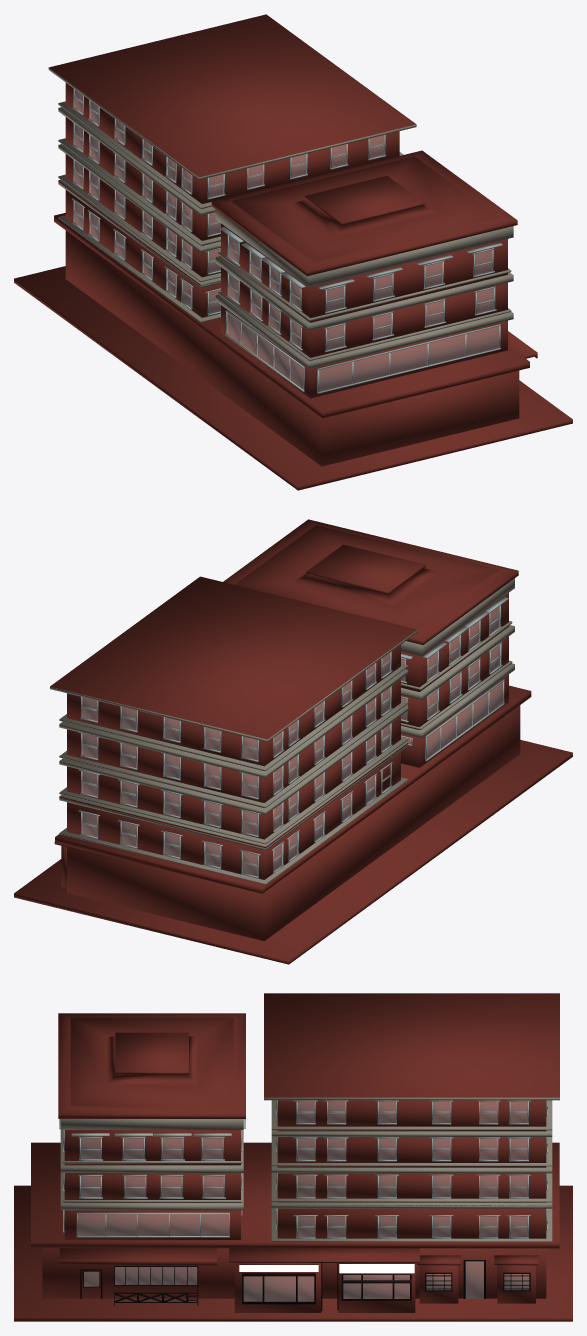
Rendered from apartment3.glb.
3 views of the same model, one above another, from view 1: azimuth 30°, elevation 25°; view 2: azimuth 150°, elevation 25°; view 3: azimuth 270°, elevation 25° (orthographic).
Visible parts, largest first — view 1: Small Apartment Building2; view 2: Small Apartment Building2; view 3: Small Apartment Building2.
Part boxes in pixels (<box>): Small Apartment Building2: <box>14,14,572,490</box>; Small Apartment Building2: <box>14,519,572,964</box>; Small Apartment Building2: <box>14,993,572,1321</box>.
Size of the model in its own units: 36.81 by 27.28 by 65.86.
